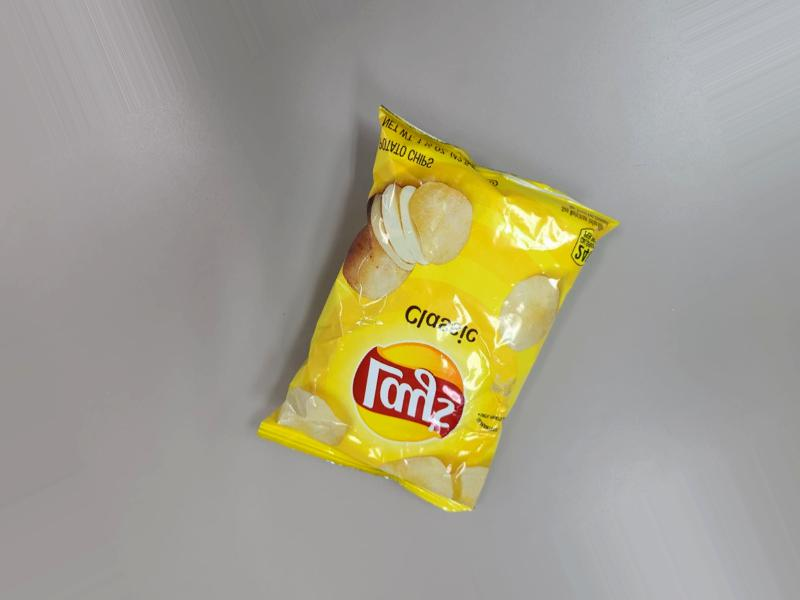lays: (258, 99, 615, 502)
